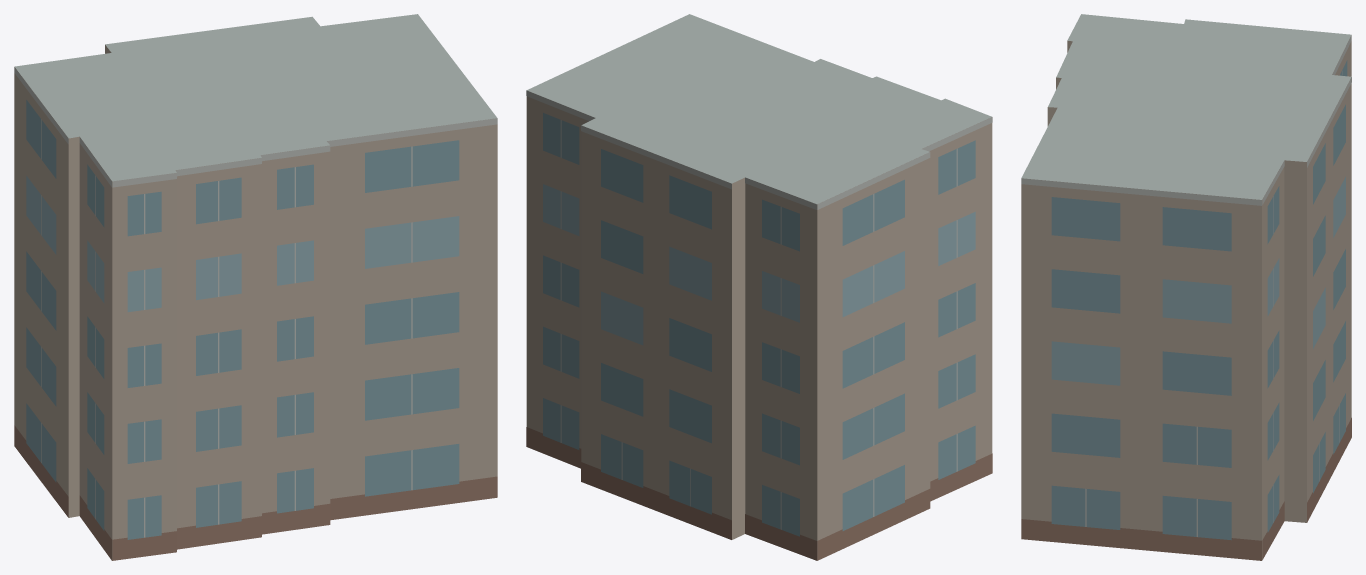
Rendered from survey-upis-32696336.glb.
3 renders of one model, left to right at view 1: azimuth 30°, elevation 25°; view 2: azimuth 150°, elevation 25°; view 3: azimuth 270°, elevation 25°, orthographic. The views are drawn at different scales.
Visible parts, largest first — view 1: survey-upis-32696336.tmp; view 2: survey-upis-32696336.tmp; view 3: survey-upis-32696336.tmp.
Boxes of the visible parts, bbox=[...] form: survey-upis-32696336.tmp: bbox=[14, 14, 497, 560]; survey-upis-32696336.tmp: bbox=[526, 14, 992, 560]; survey-upis-32696336.tmp: bbox=[1021, 14, 1351, 560].
Size of the model in its own units: 16.42 by 14.85 by 12.34.
